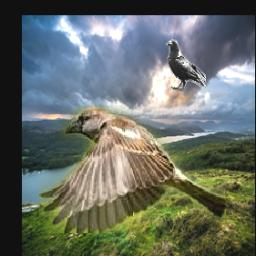Crow: (166, 40, 207, 92)
Sparrow: (40, 106, 227, 233)
